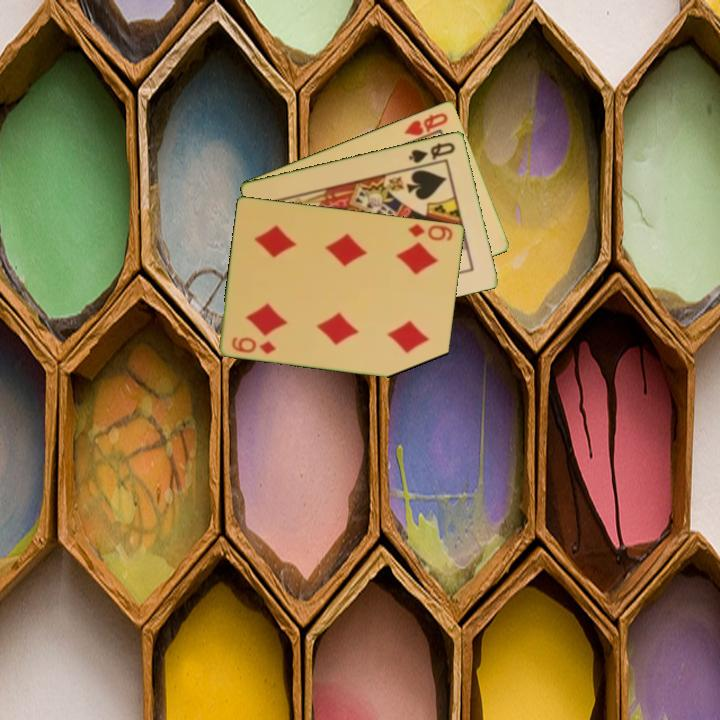6d: (228, 333, 279, 357), (405, 220, 456, 243)
Qh: (400, 109, 451, 139)
Qs: (405, 138, 458, 166)
